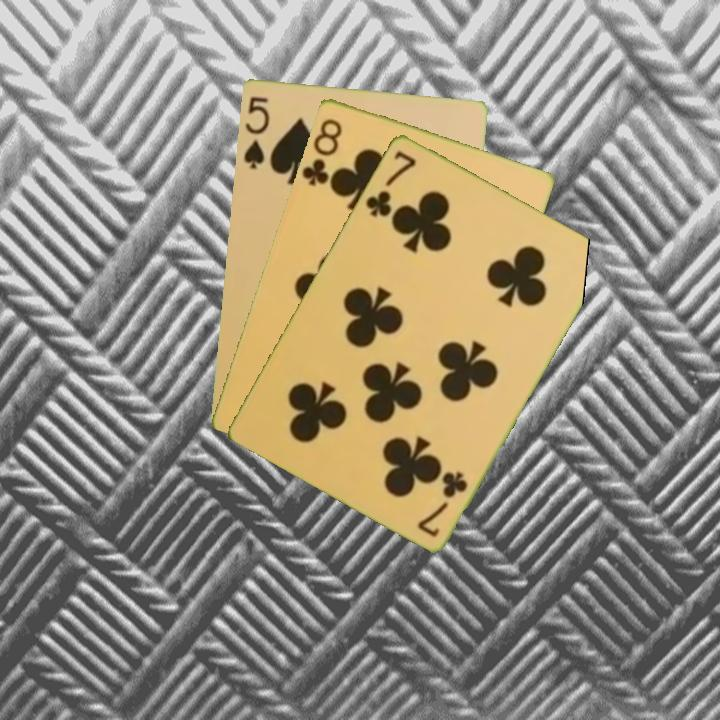5s: (239, 93, 272, 172)
7c: (361, 146, 419, 219), (413, 467, 471, 540)
8c: (298, 114, 345, 189)
